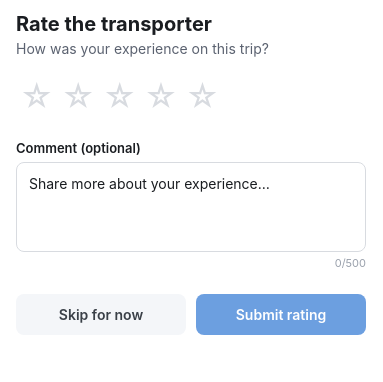
Test case: RatingScreen (shipper) › surfaces a server-side duplicate rejection with a clear message instead of crashing
Click the button with test id "rating-form-star-input-star-3" at (120, 96), box left=99, top=73, right=140, bottom=120
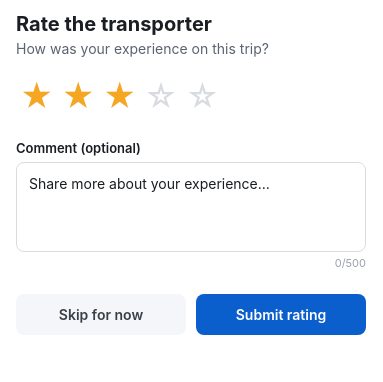
Click the button with test id "rating-form-submit-button" at (281, 314), box left=196, top=294, right=366, bottom=335
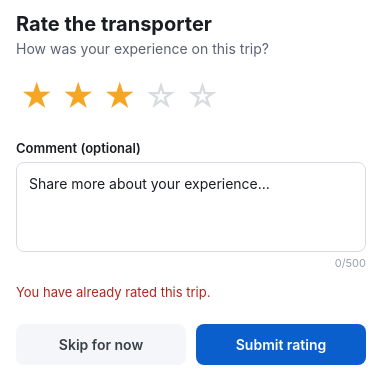
expect the text "You have already rated this trip." is shown: met, box left=16, top=284, right=210, bottom=300
